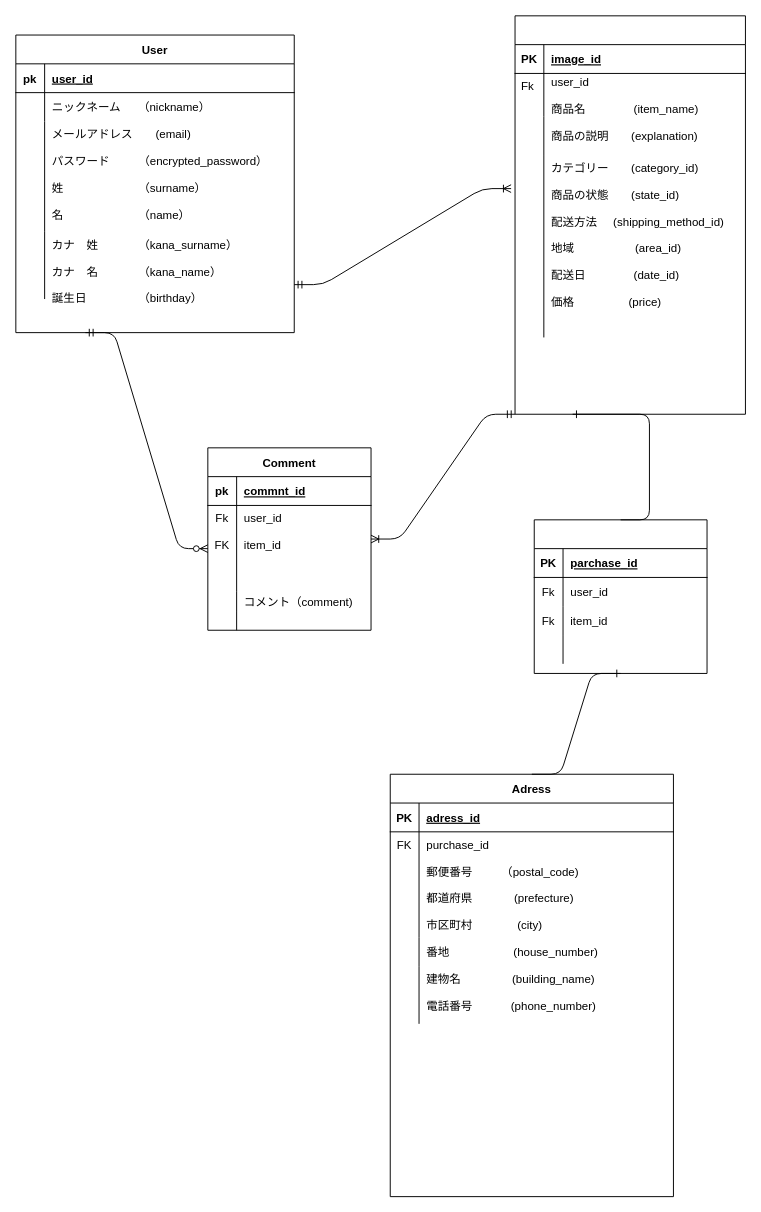
This 761x1212 diagram has some shape labels left out. The box of each missing label's shape, as (x1, y1, x2, y2) in pixels:
Purchase: (533, 519, 707, 673)
Table: (514, 15, 745, 414)
